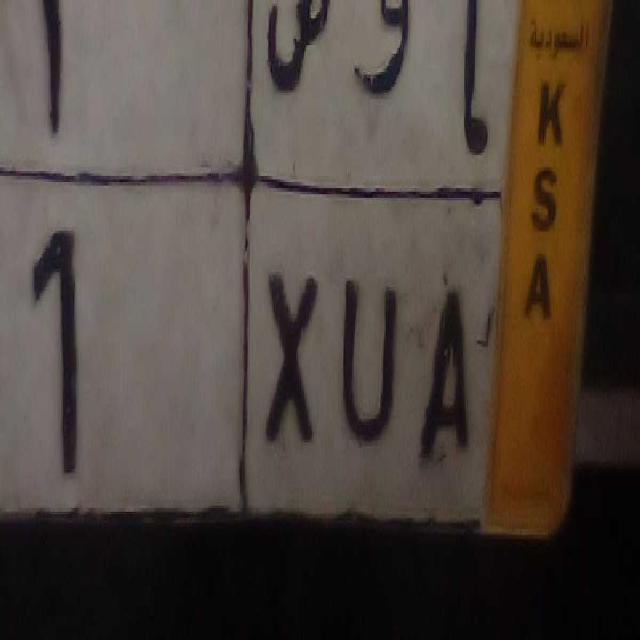license_plate: (0, 165, 494, 539)
